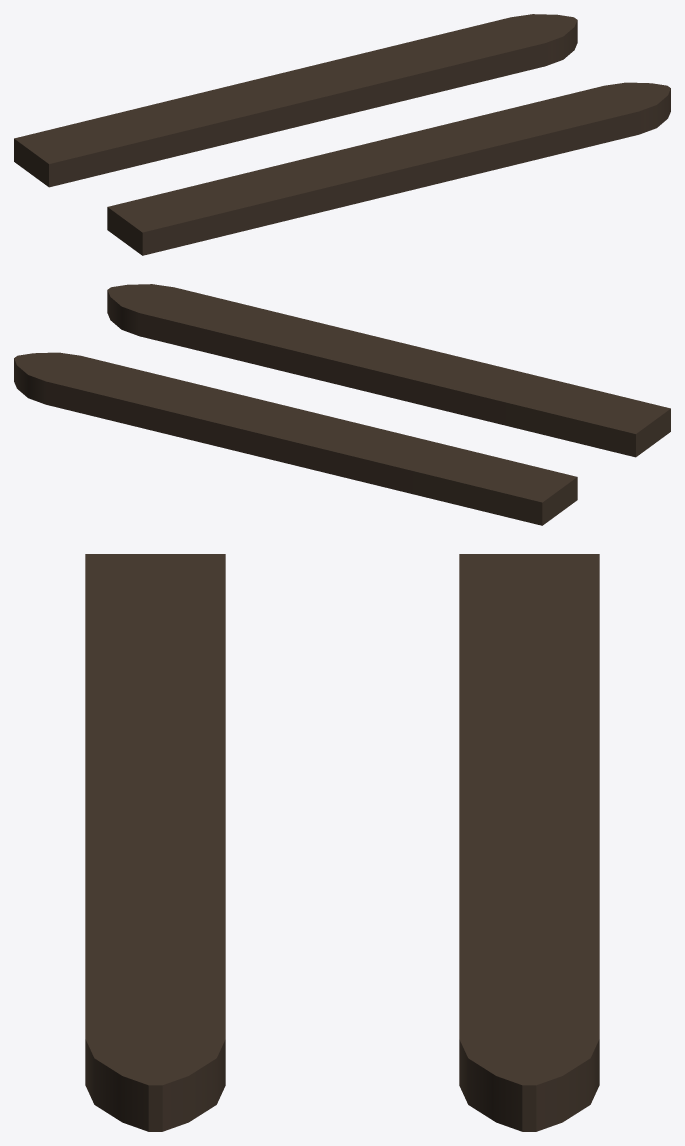
File: Skis.fbx
3 views of the same model, one above another, from view 1: azimuth 30°, elevation 25°; view 2: azimuth 150°, elevation 25°; view 3: azimuth 270°, elevation 25° (orthographic). The views are drawn at different scales.
Visible parts, largest first — view 1: pCube1, pCube2; view 2: pCube1, pCube2; view 3: pCube1, pCube2.
Part boxes in pixels (left/top/right/bottom): pCube1: left=14, top=14, right=577, bottom=187; pCube2: left=107, top=82, right=670, bottom=255; pCube1: left=14, top=352, right=577, bottom=525; pCube2: left=107, top=284, right=670, bottom=457; pCube1: left=459, top=554, right=599, bottom=1131; pCube2: left=85, top=554, right=225, bottom=1131.
Size of the model in its own units: 2.76 by 0.1129 by 1.13.
